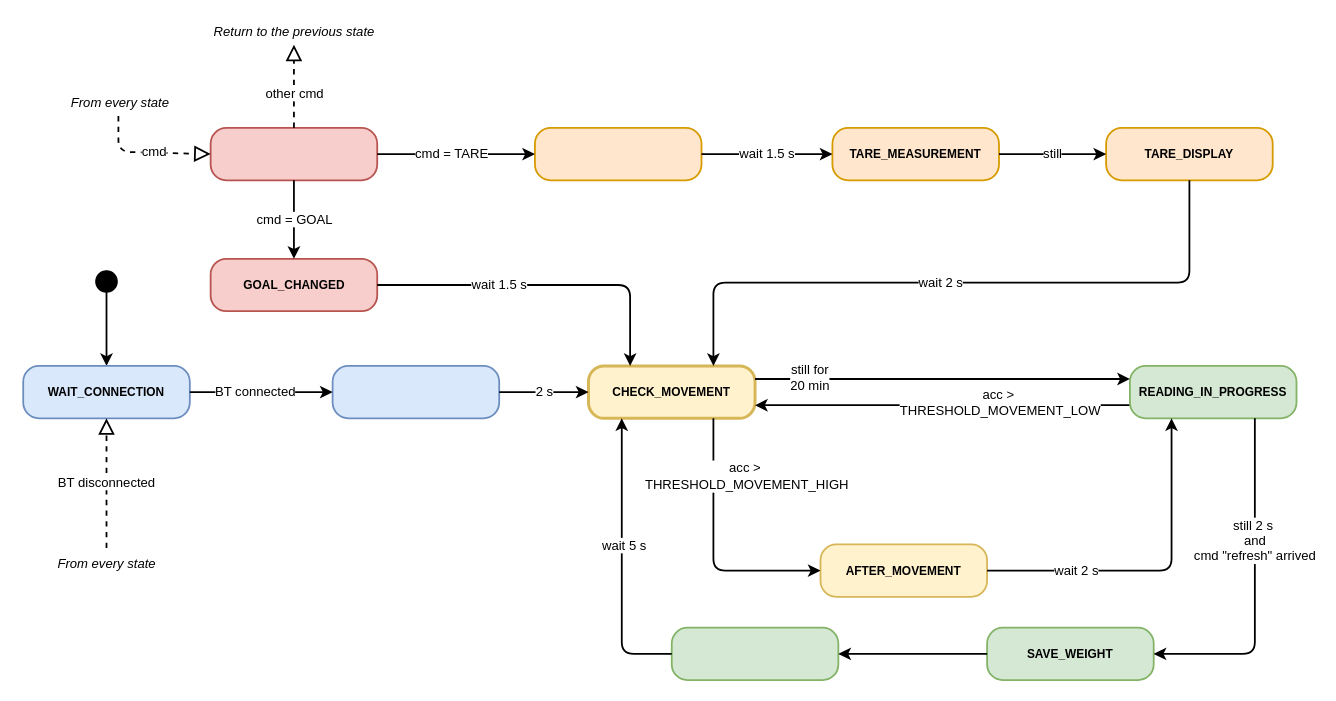
The diagram is 1336 pixels wide and 701 high, and some of its shapes have lost their labels. Here are the shapes that lost their labels. From the top down, the box of each, then its label:
(209, 126, 378, 181): CMD_ARRIVED
(533, 126, 702, 181): REQUEST_TARE
(331, 364, 500, 419): DISPLAY_CONNECTED
(670, 626, 839, 680): WAIT_5_SEC
